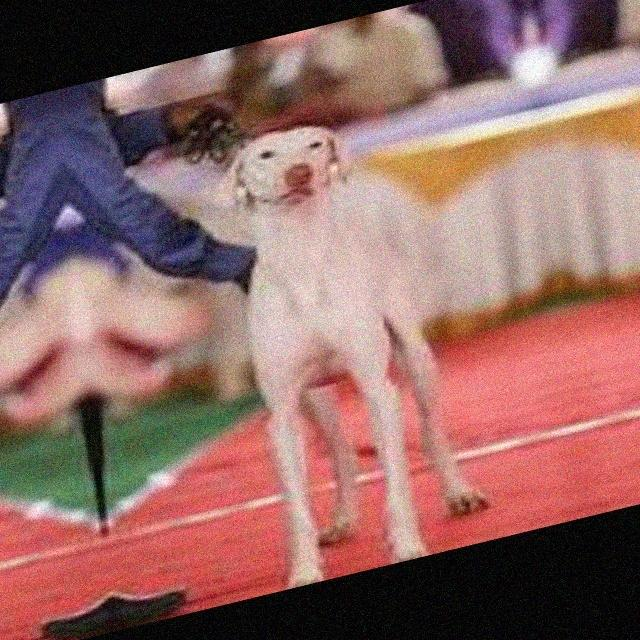dog: (158, 61, 534, 608), (583, 20, 640, 505), (0, 186, 18, 640)
